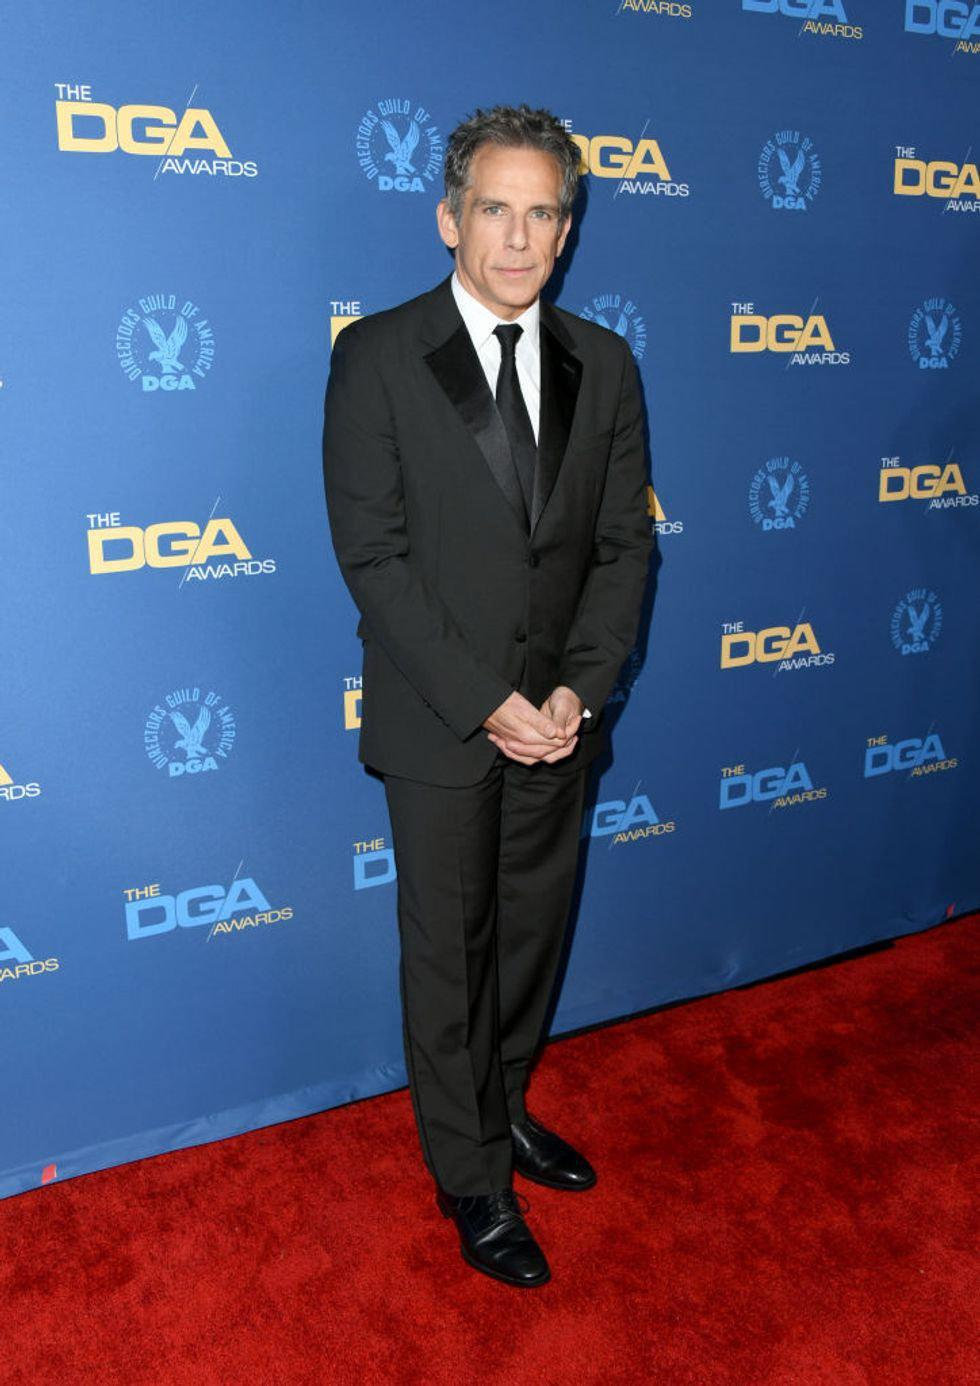Sober: (468, 141, 561, 304)
